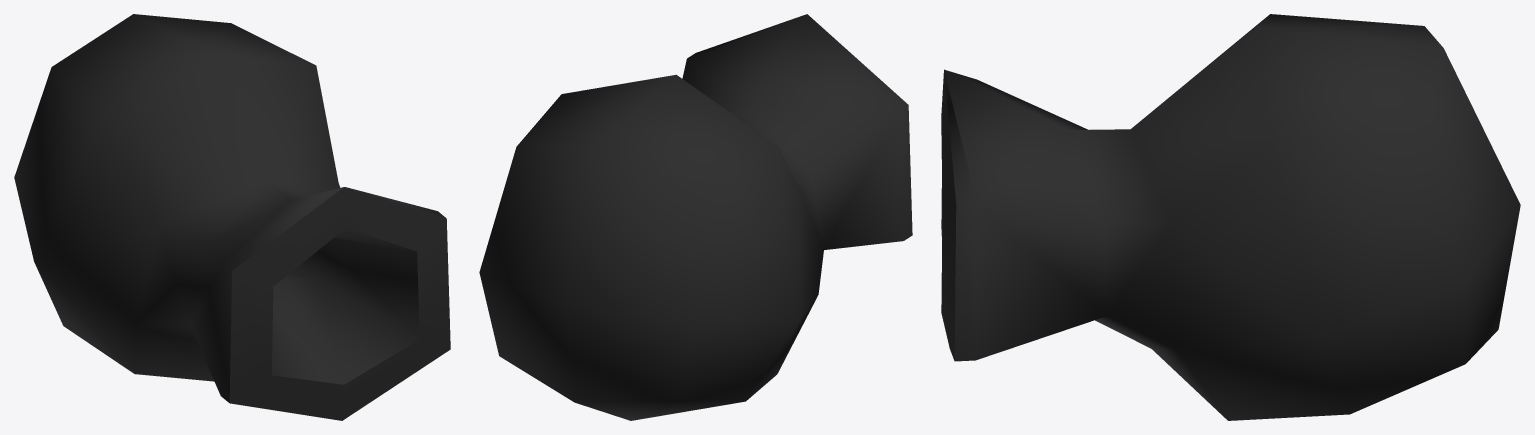
Rendered from cannon_barrel.obj.
The picture shows the model from 3 angles, left to right: view 1: azimuth 30°, elevation 25°; view 2: azimuth 150°, elevation 25°; view 3: azimuth 270°, elevation 25°; orthographic projection. The views are drawn at different scales.
Visible parts, largest first — view 1: Cube_Cube.001; view 2: Cube_Cube.001; view 3: Cube_Cube.001.
Boxes of the visible parts, x1,y1,x2,y2 form: Cube_Cube.001: [14, 14, 450, 420]; Cube_Cube.001: [479, 14, 912, 420]; Cube_Cube.001: [941, 14, 1520, 420].
Bounding box in the file's own units: 0.8395 × 0.8375 × 1.18.
